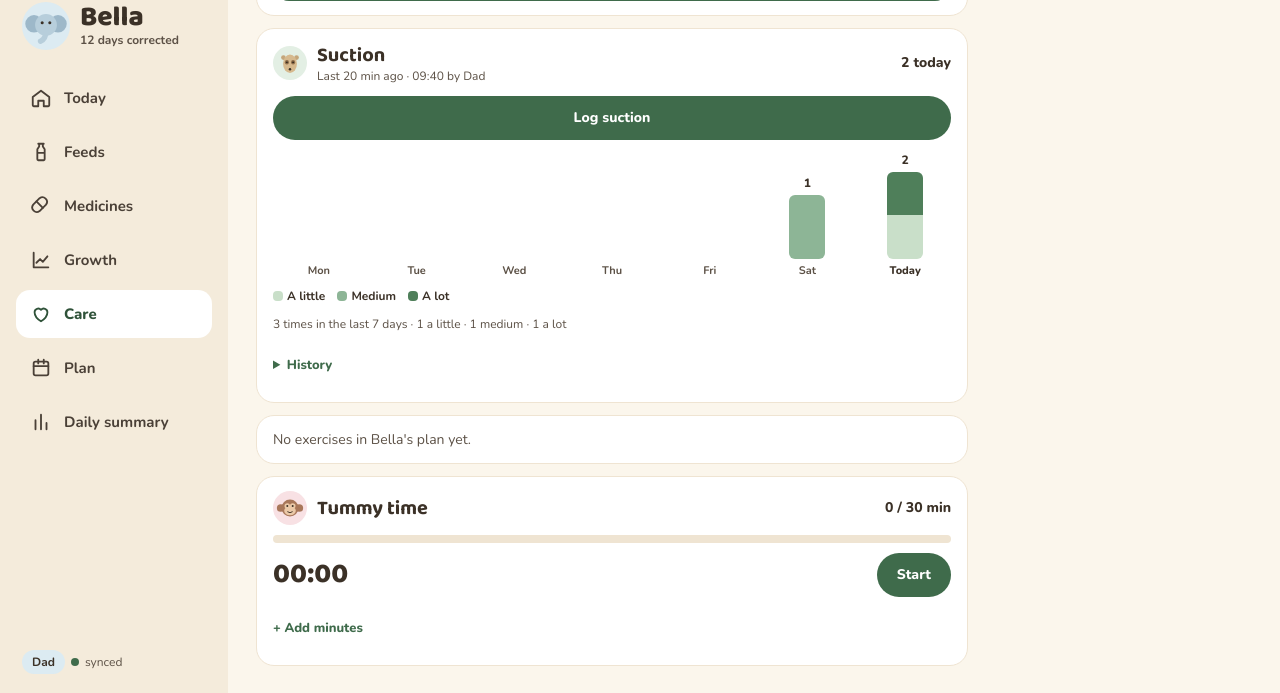
Test case: Suction on Care › shows today, a 7-day chart and the history by day
(page scrolled)
Expected: the heading "Suction" is shown, [317, 38, 385, 70]
Expected: the text "2 today" is shown, [901, 53, 951, 73]
Click the heading "History" at (310, 365), box [287, 356, 332, 374]
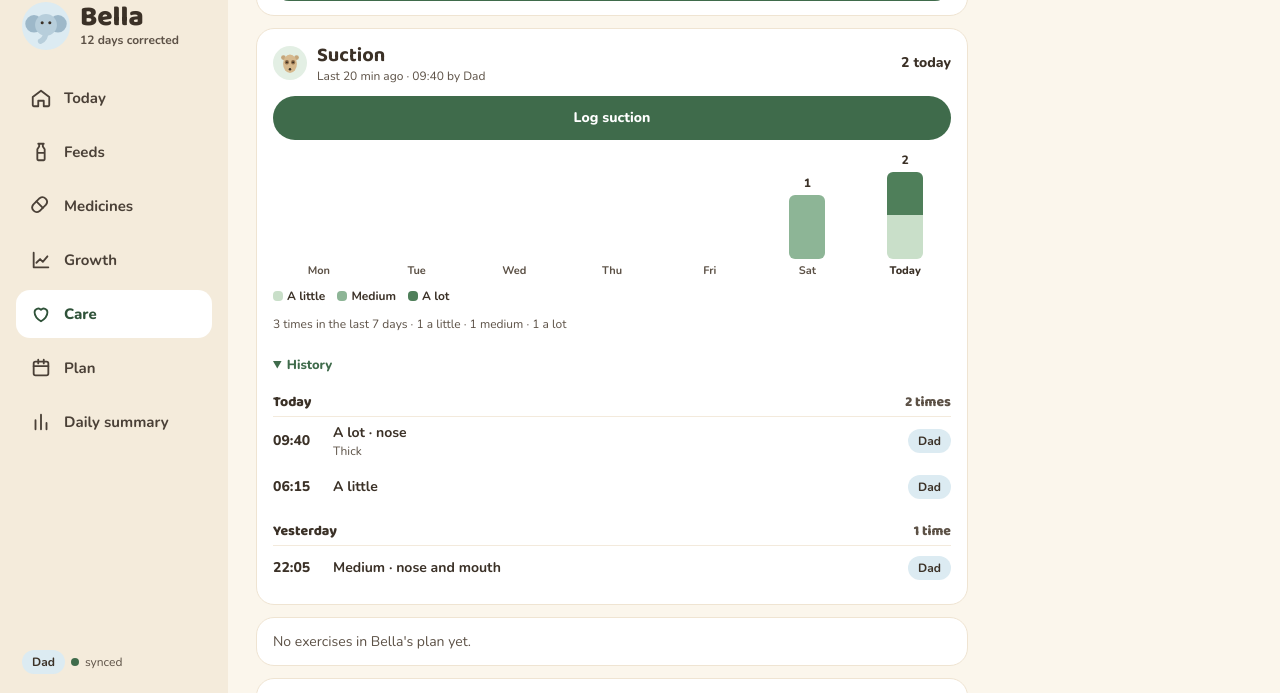
Result: the text "Medium · nose and mouth" is shown at [333, 558, 501, 576]
Click the button "22:05 Medium · nose and mouth Dad" at (292, 567), box [273, 546, 951, 590]
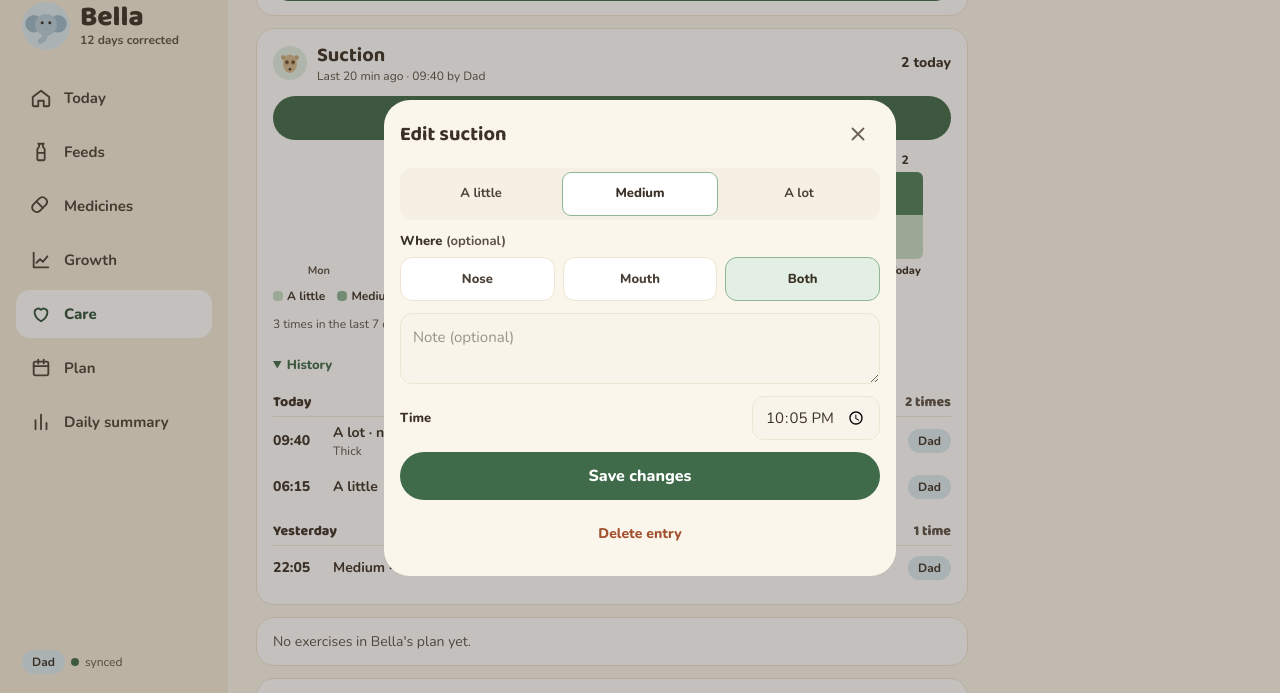
Result: the dialog "Edit suction" is shown at [384, 100, 896, 576]
